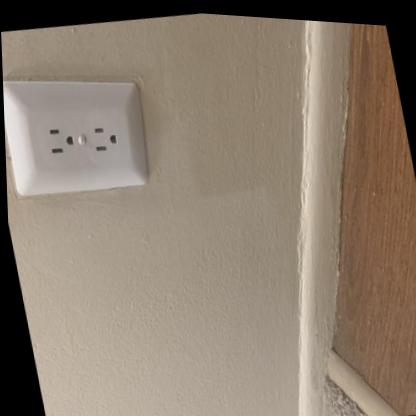OUTLET: (2, 57, 161, 207)
